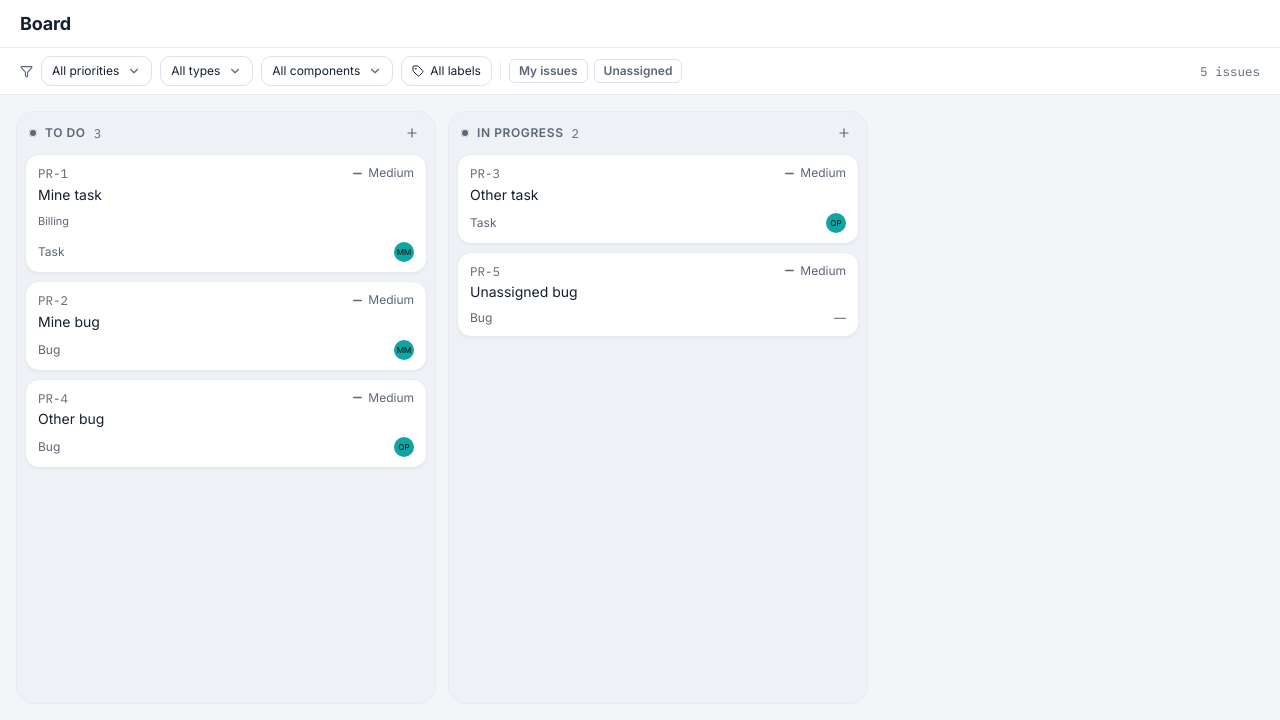
Test: BoardPage quick filters (HD-43) › filters by type alone when no assignee chip is on
The image size is (1280, 720).
Expected: the button "My issues" is shown, [509, 59, 588, 83]
Expected: the text "In Progress" is shown, [477, 125, 564, 141]
Click the button with aria-label "Filter by type" at (207, 71), box [160, 56, 253, 86]
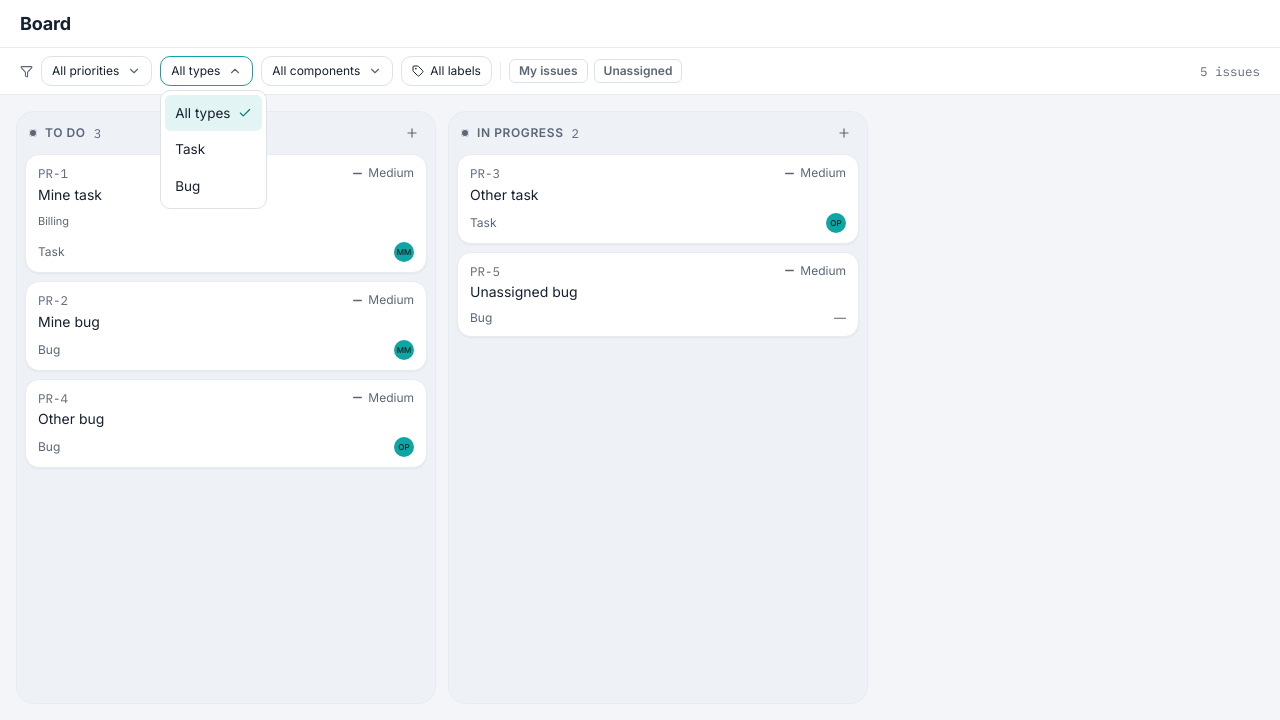
Click the option "Task" at (190, 149), box [175, 141, 205, 157]
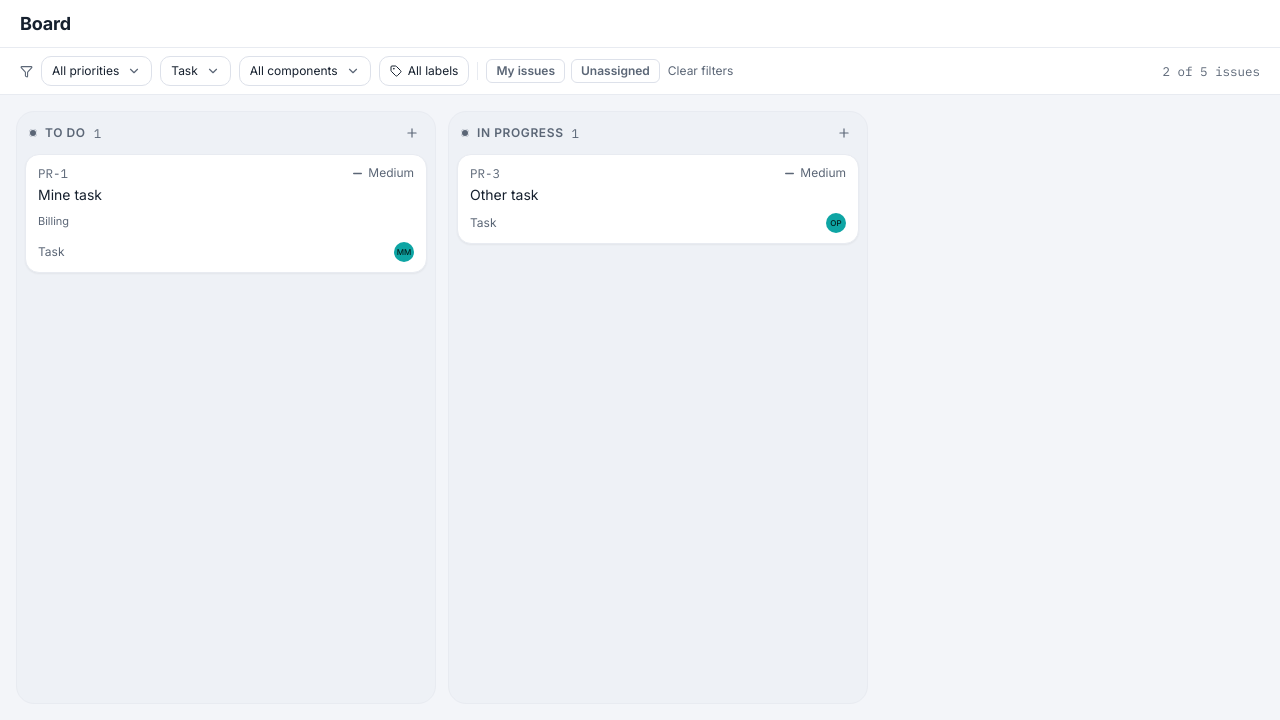
Expected: the text "2 of 5 issues" is shown, [1162, 63, 1260, 79]
